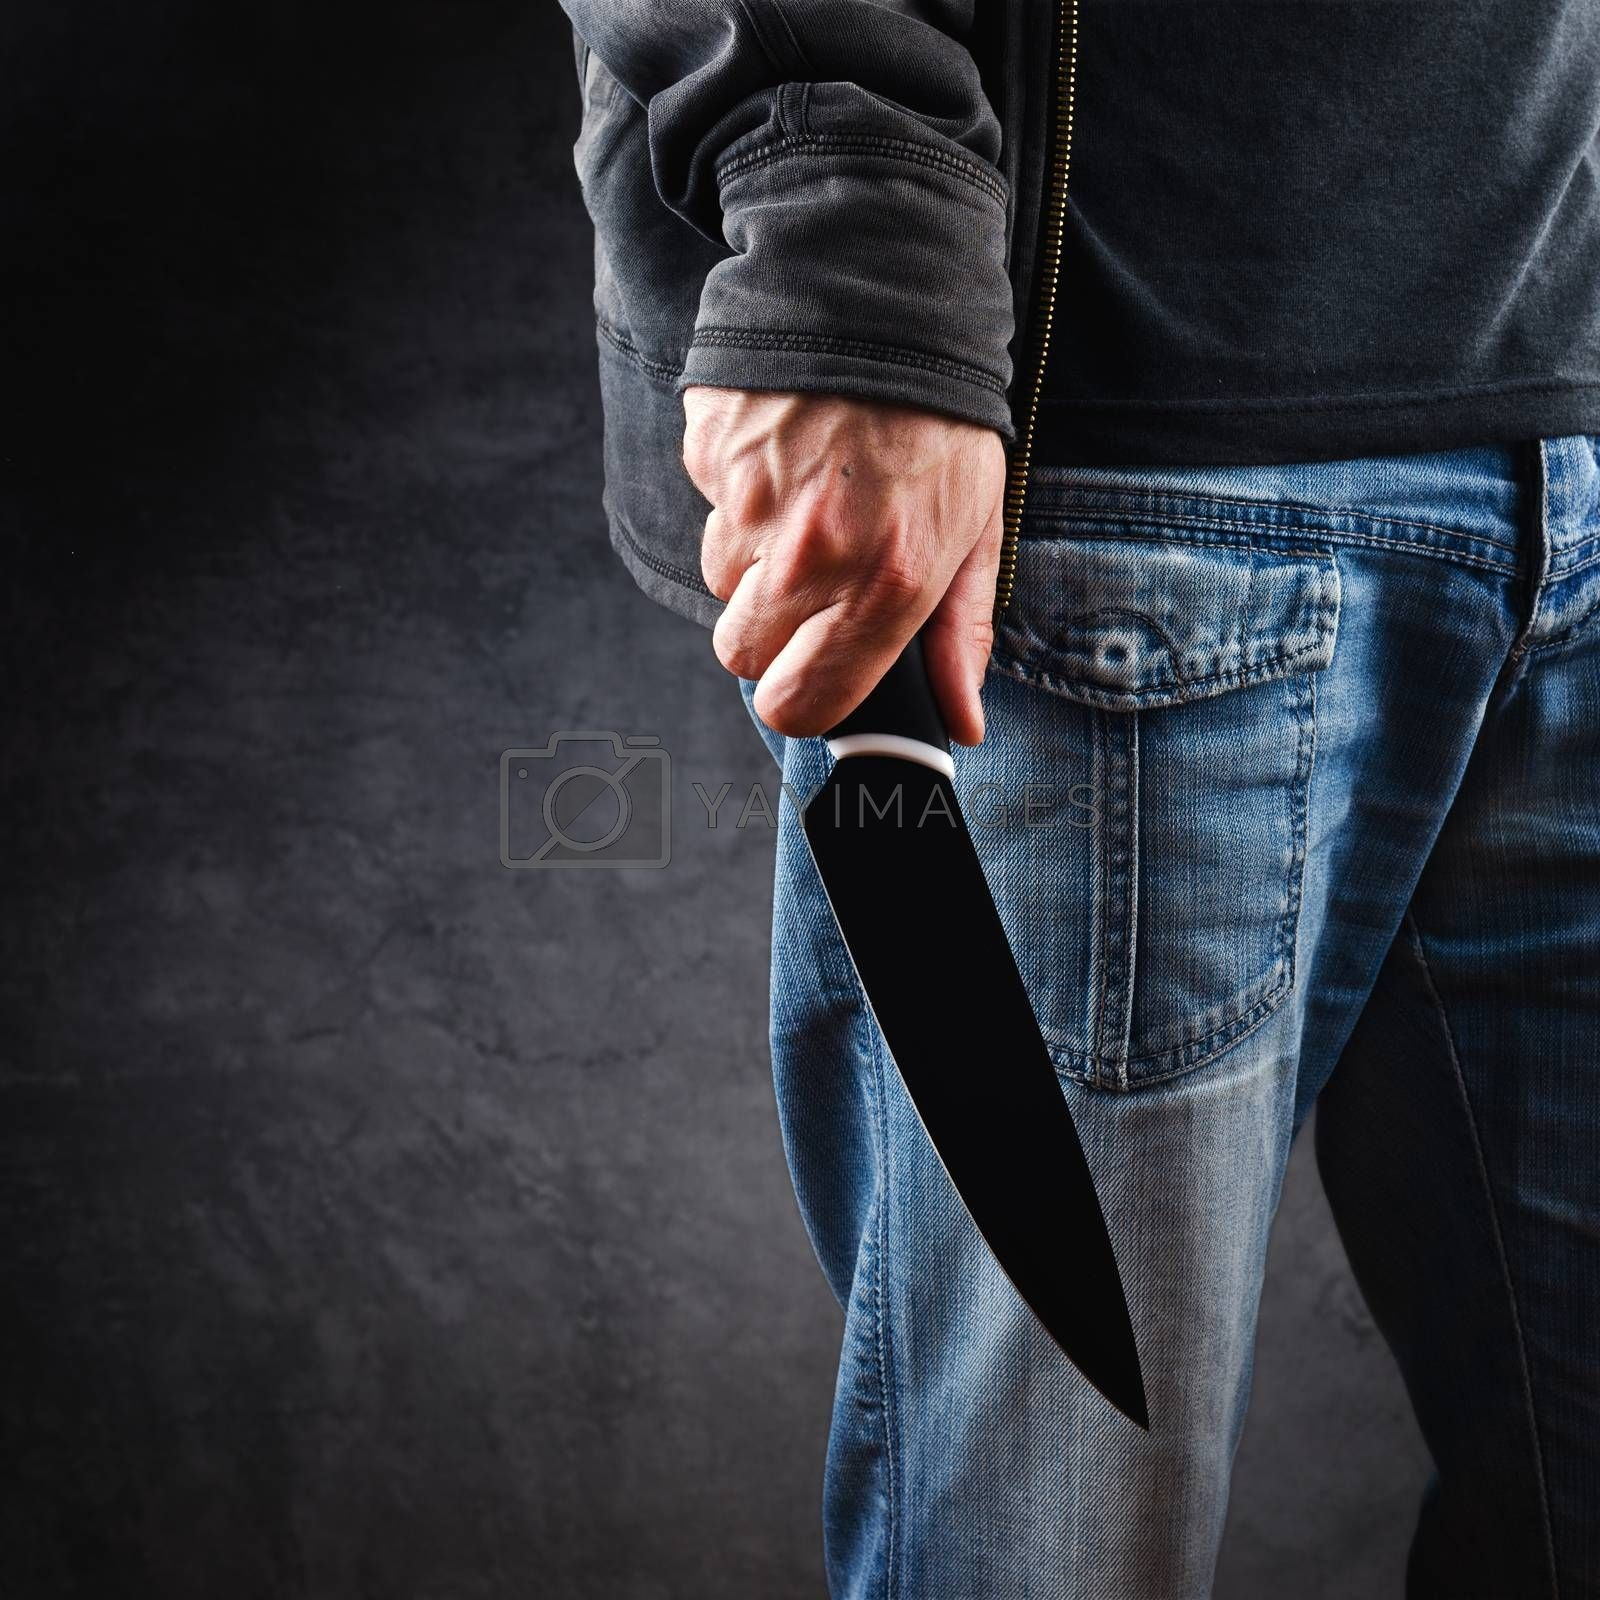knife: (793, 549, 1152, 1434)
